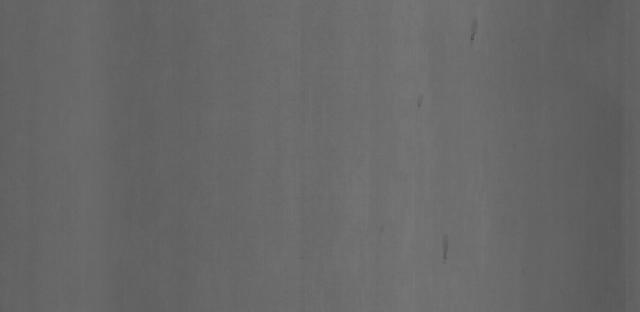water_spot: (460, 14, 491, 64), (427, 228, 466, 264), (406, 90, 442, 123)
